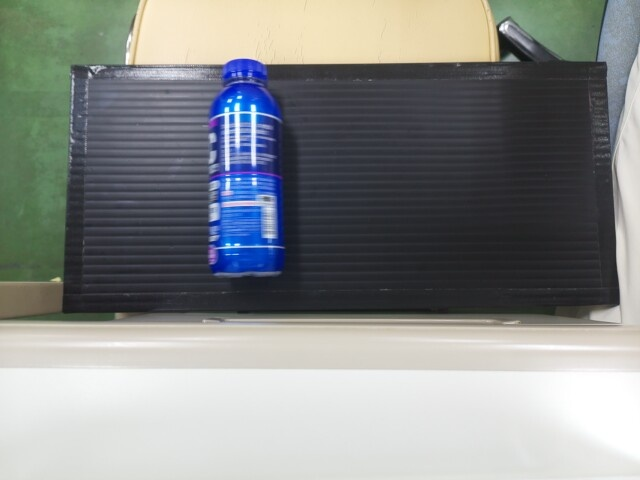plastic_bottle: (205, 59, 282, 279)
